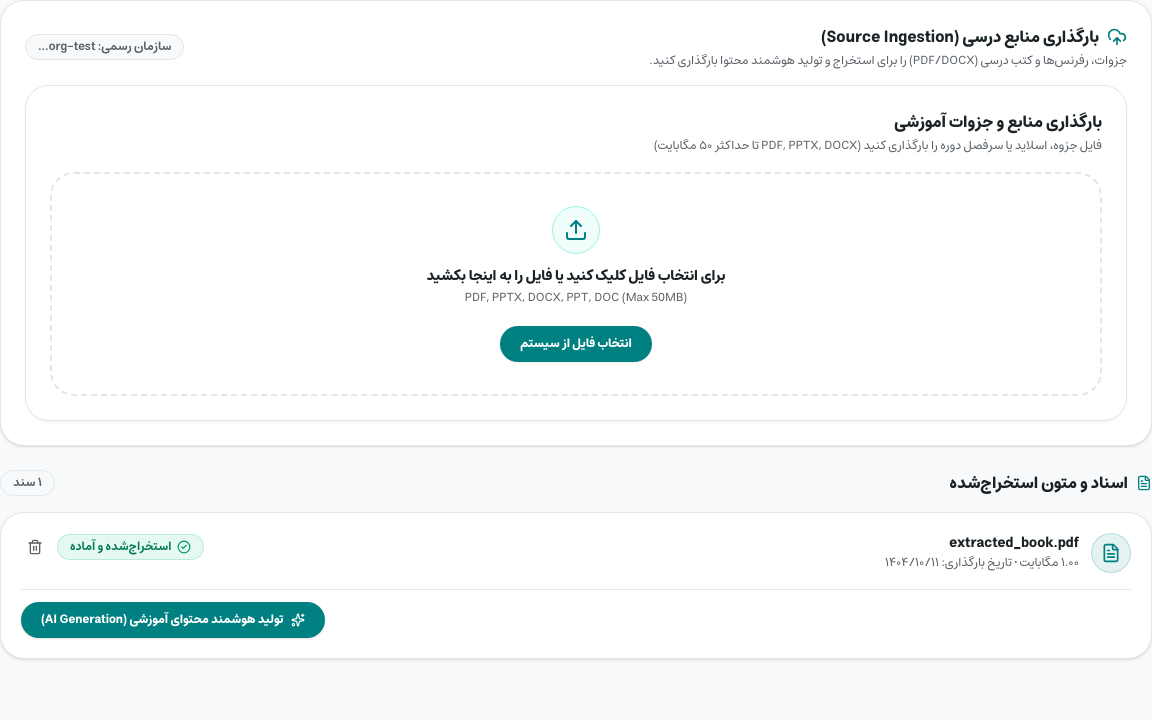
SourceProductionPanel Document Scoping & Scenarios › Scenario 5: Card actions, specifically «تولید هوشمند محتوای آموزشی», work without behavioral change
Expected: the heading "extracted_book.pdf" is shown, [949,530,1079,554]
Click the button "تولید هوشمند محتوای آموزشی (AI Generation)": (173, 620) [21,602,325,638]
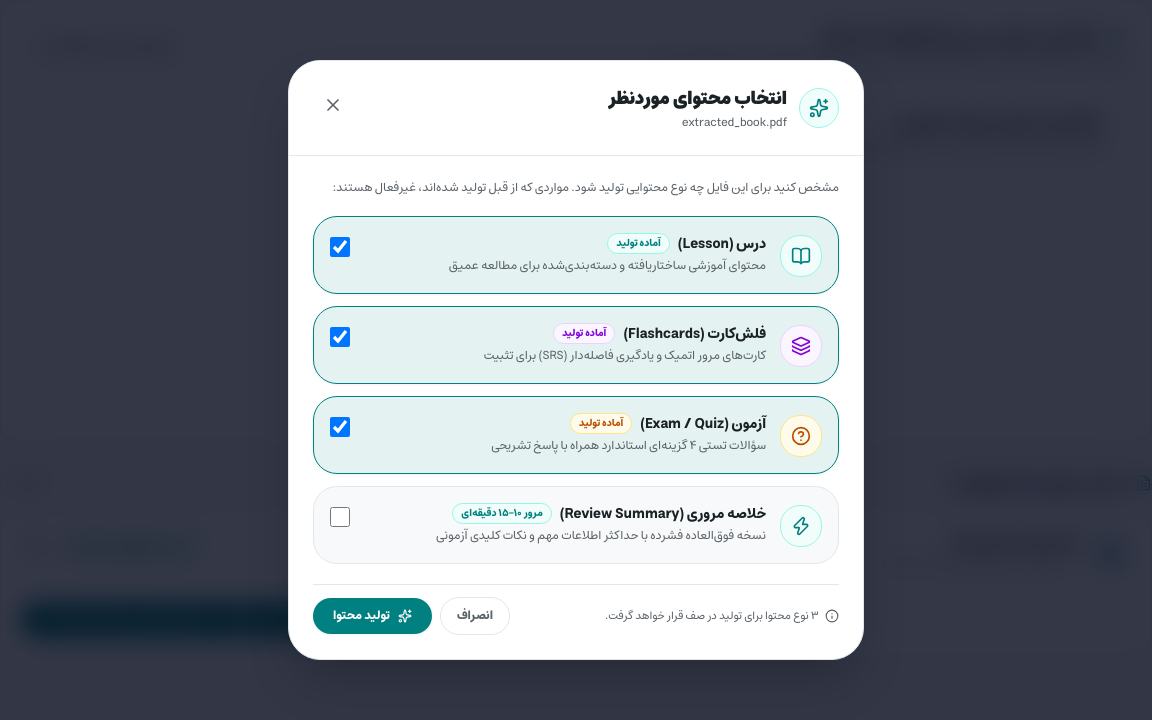
Expected: the text "درس (Lesson)" is shown, [678,234,766,254]
